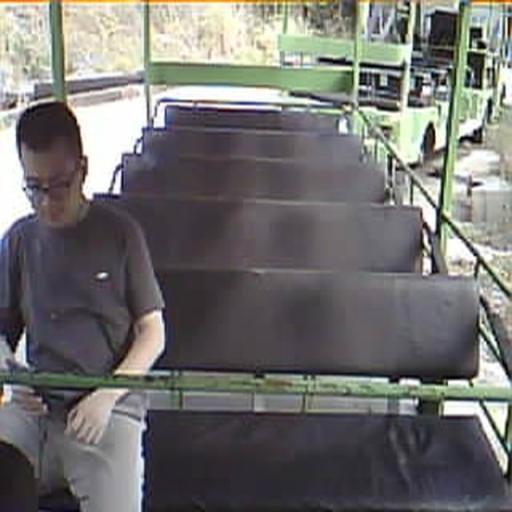persona: (0, 99, 167, 511)
